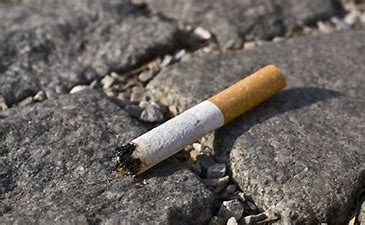cigarette: (115, 62, 287, 180)
